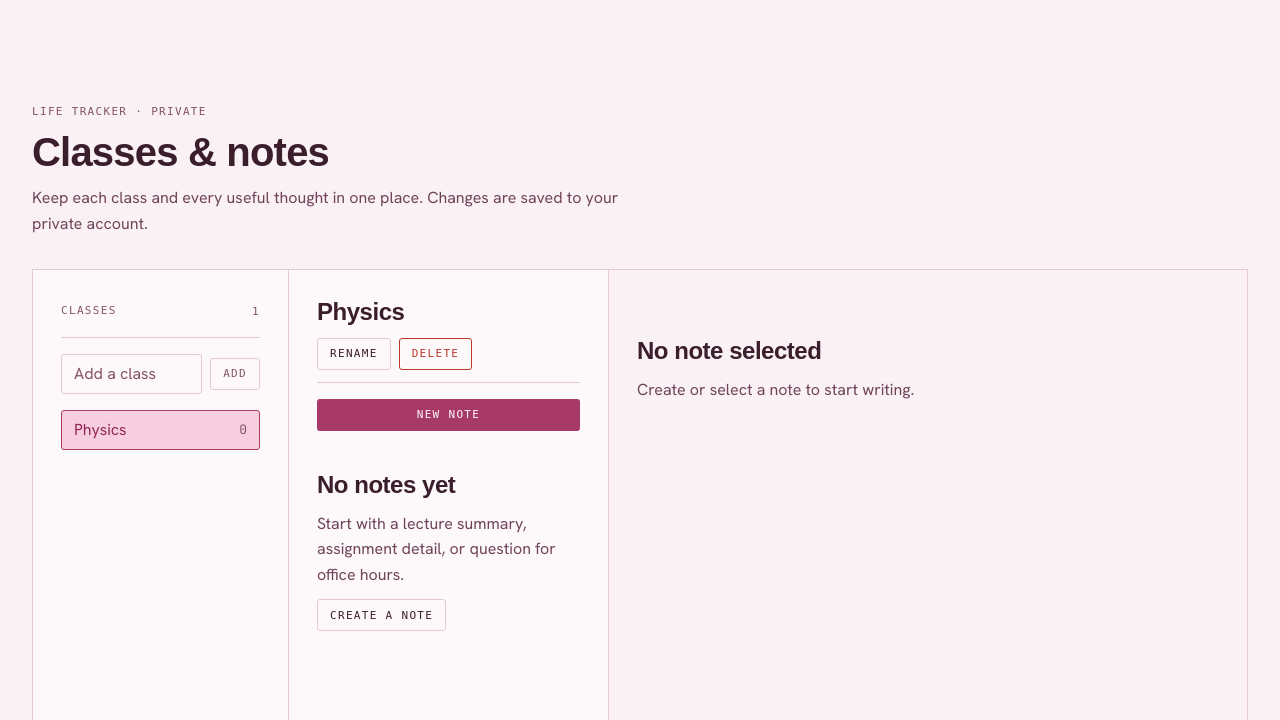
Scenario: preserves loaded data and can retry work after a long-lived session loses storage
The width and height of the screenshot is (1280, 720).
Expected: the heading "Physics" is shown, [317,298,404,326]
Type "Chemistry" into the field named "Class name" at (132, 374), box [61,354,202,394]
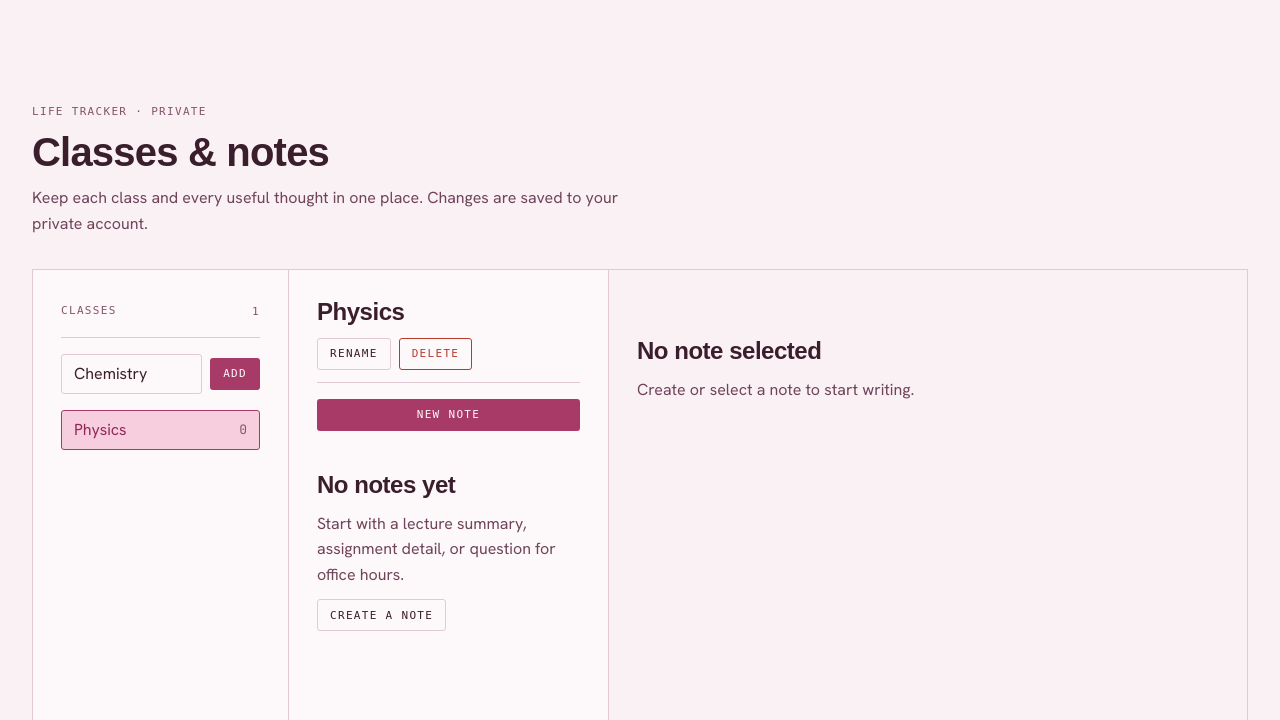
Click the button "Add" at (235, 374), box [210,358,260,390]
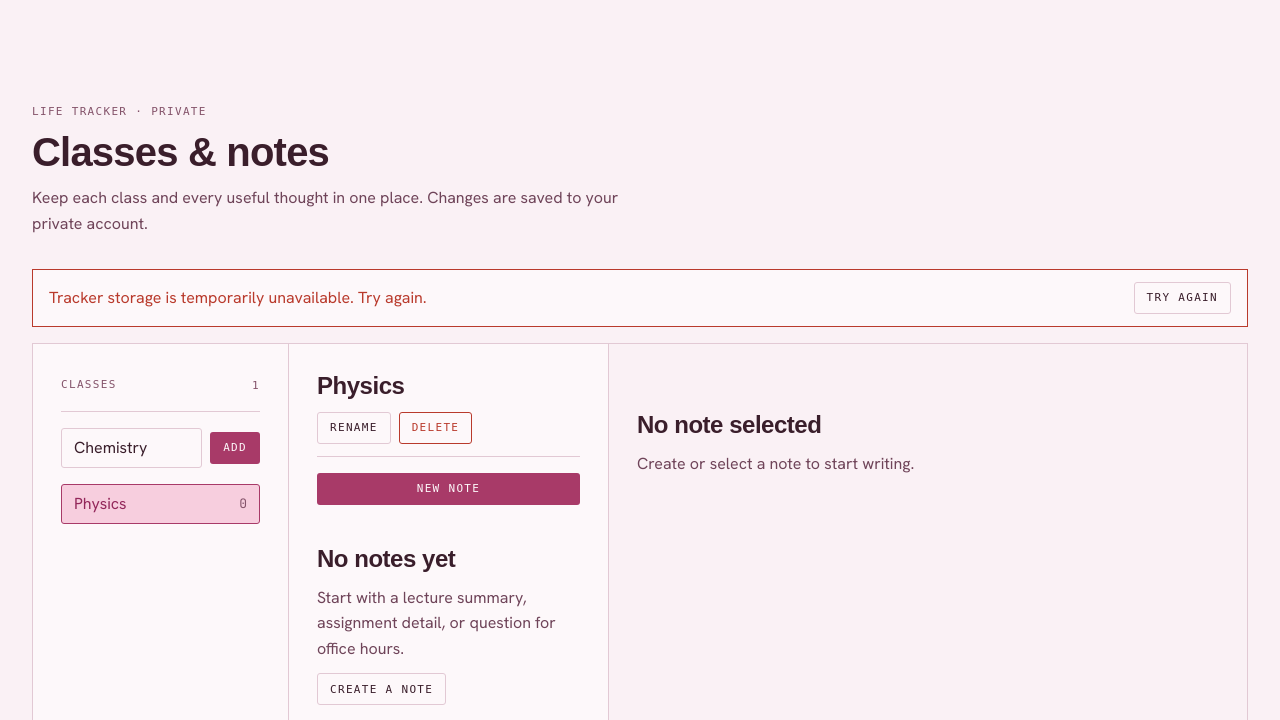
Expected: the heading "Physics" is shown, [317,372,404,400]
Result: the message shows "Tracker storage is temporarily unavailable. Try again." at [49,287,427,308]
Click the button "Try again" at (1182, 298), box [1134,282,1231,314]
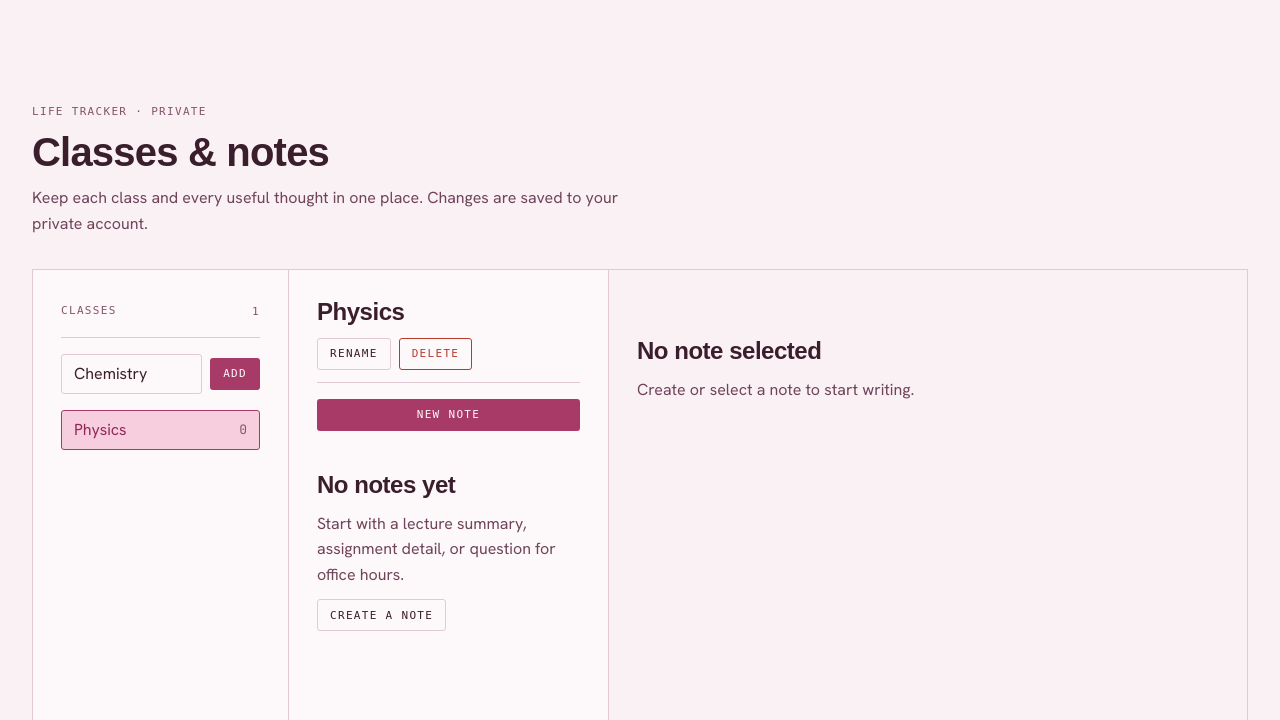
Click the button "Add" at (235, 374), box [210,358,260,390]
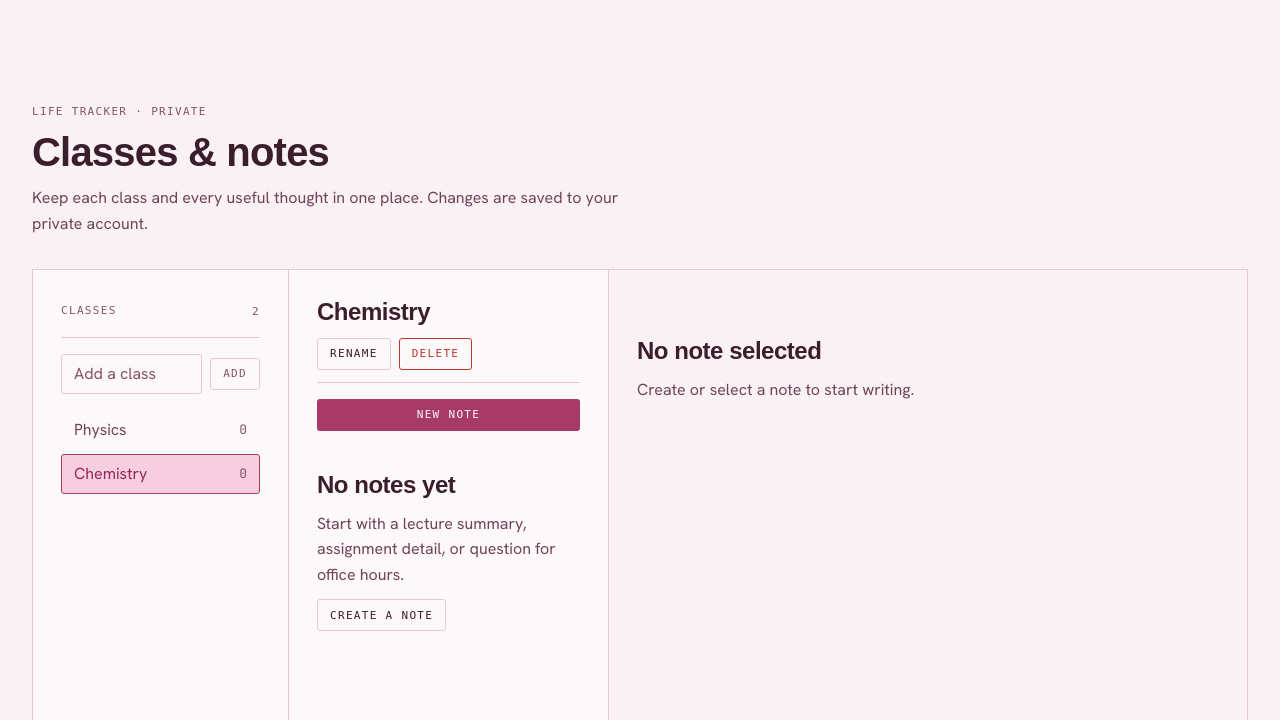
Result: the heading "Chemistry" is shown at [317,298,430,326]
